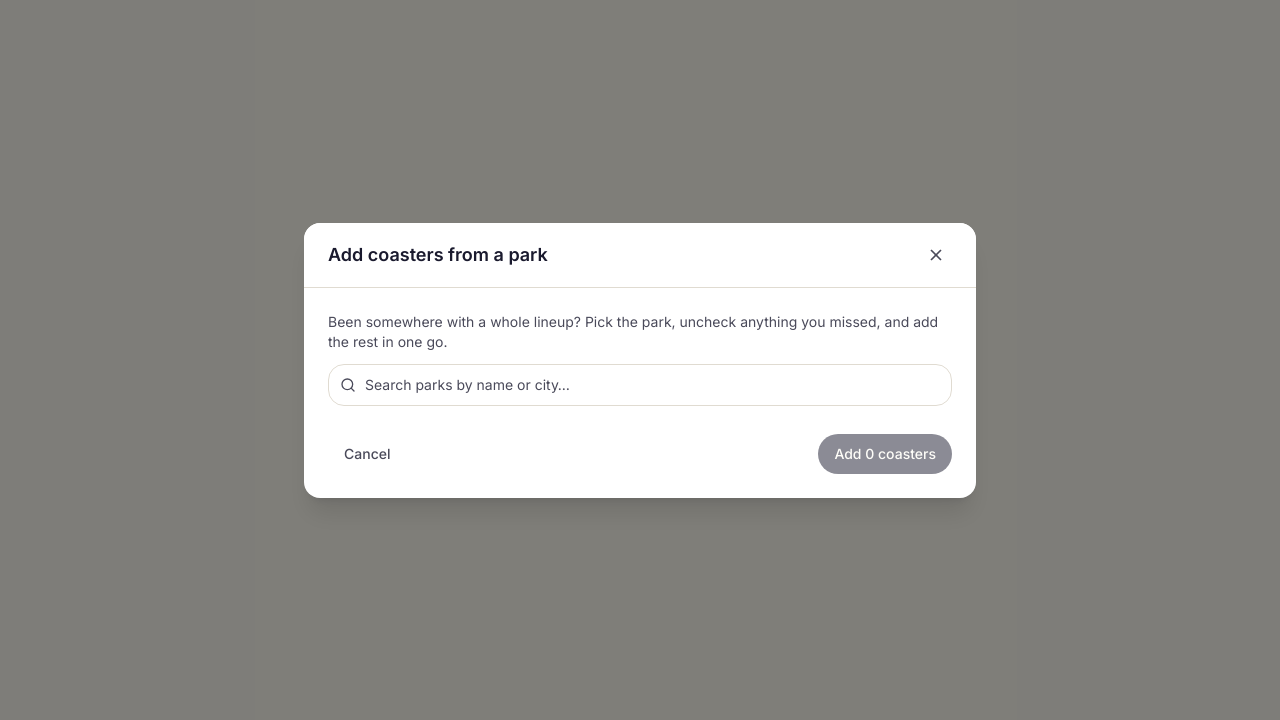
ParkBulkAddModal › shows an empty state for unmatched queries
Type "zootopia" into the search field labelled "Search parks by name or city…".
click(640, 384); type("zootopia")  # box [328,364,952,406]
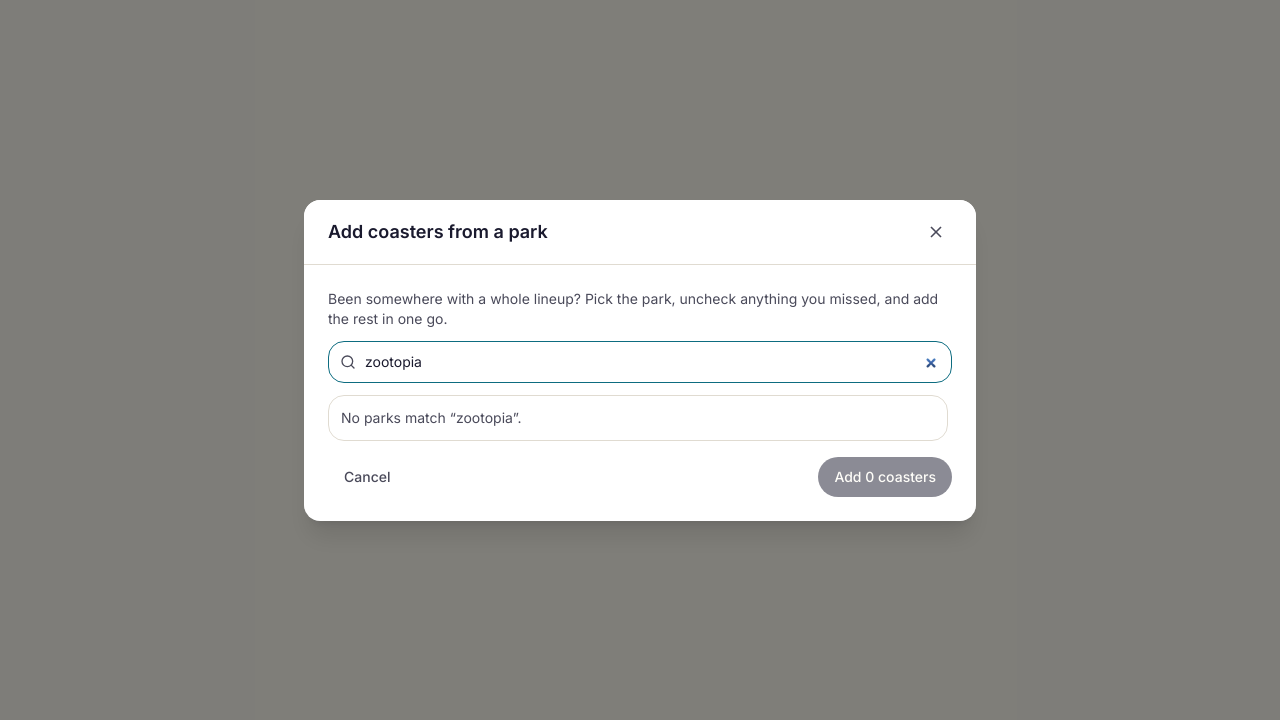
Now the list item "No parks match “zootopia”." is shown, box [328,394,948,440]
